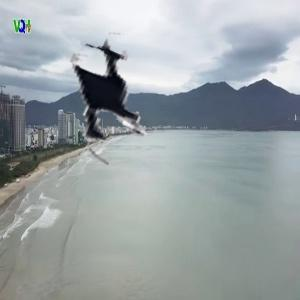drone: (36, 19, 188, 171)
